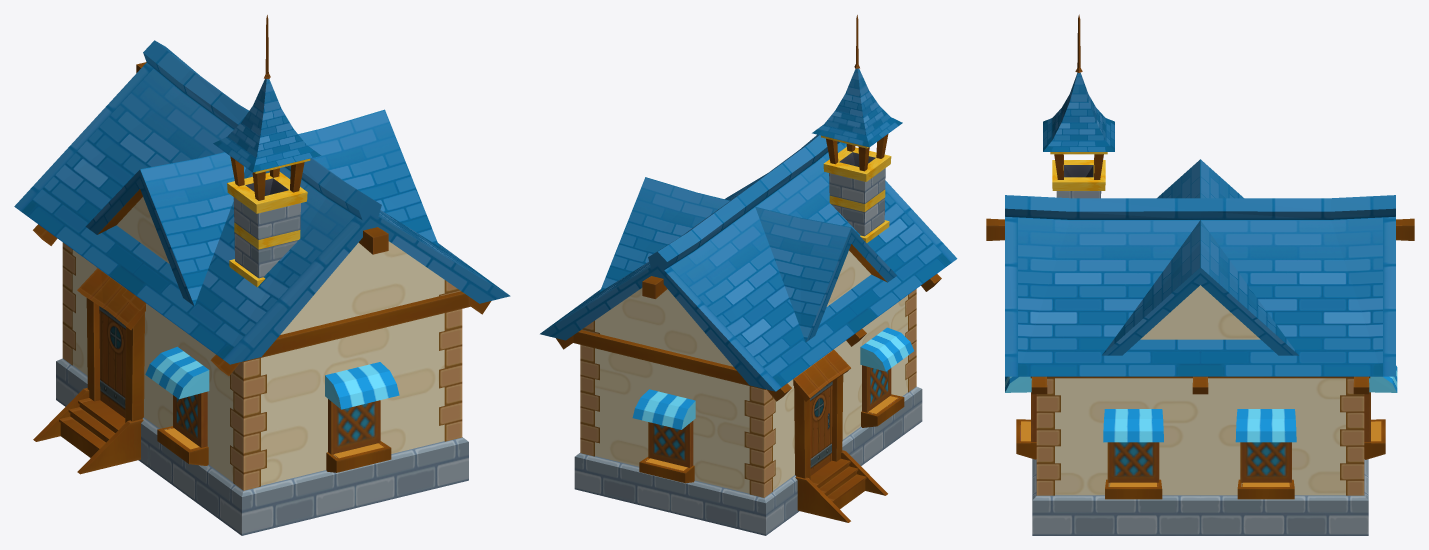
Rendered from BLD0910017.fbx.
3 views of the same model, side by side, from view 1: azimuth 30°, elevation 25°; view 2: azimuth 150°, elevation 25°; view 3: azimuth 270°, elevation 25° (orthographic). The views are drawn at different scales.
Visible parts, largest first — view 1: smBLD0910017; view 2: smBLD0910017; view 3: smBLD0910017.
Part boxes in pixels (x1,y1,x2,y2): smBLD0910017: [14, 15, 510, 535]; smBLD0910017: [540, 15, 957, 535]; smBLD0910017: [986, 14, 1414, 535].
Bounding box in the file's own units: 275 × 409 × 358.
Materials: 1 (1 with a texture image).
